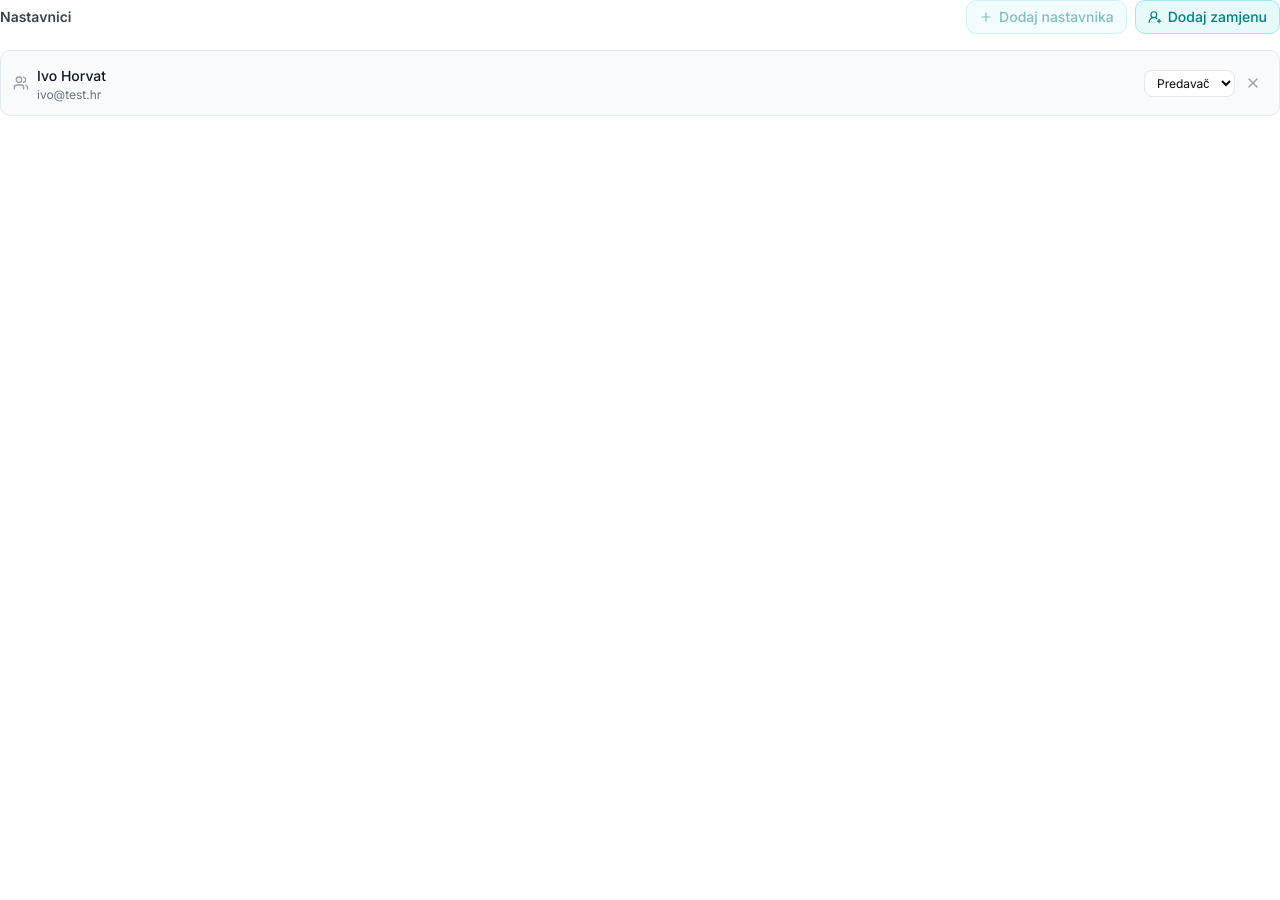
Test: GroupTeachersPanel — Dodaj zamjenu lifecycle › ignores a load that settles after the dialog was closed and reopened
Click the button "Dodaj zamjenu" at (1207, 17), box x1=1135 y1=0 x2=1279 y2=34
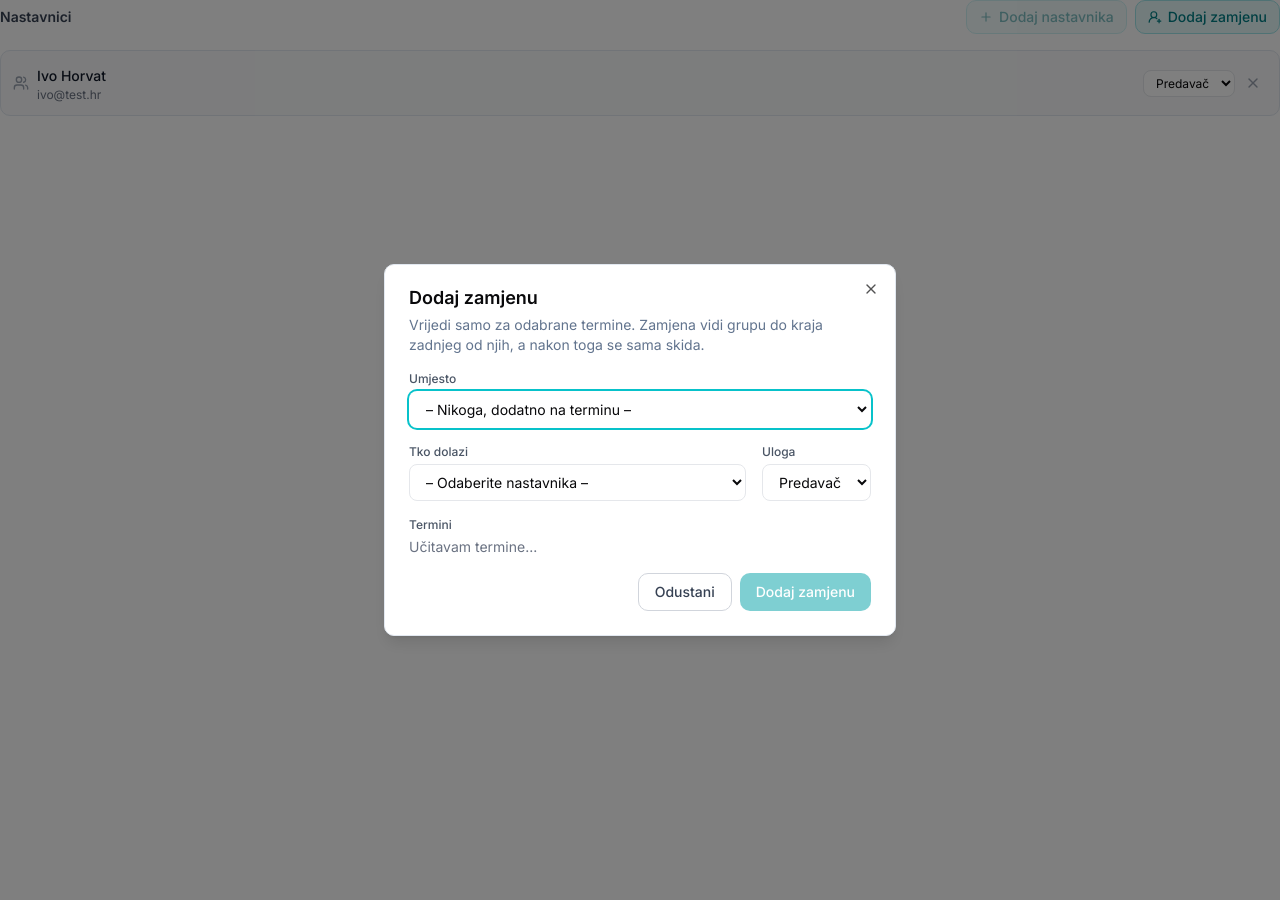
Click the button "Odustani" at (685, 592), box x1=638 y1=573 x2=732 y2=611
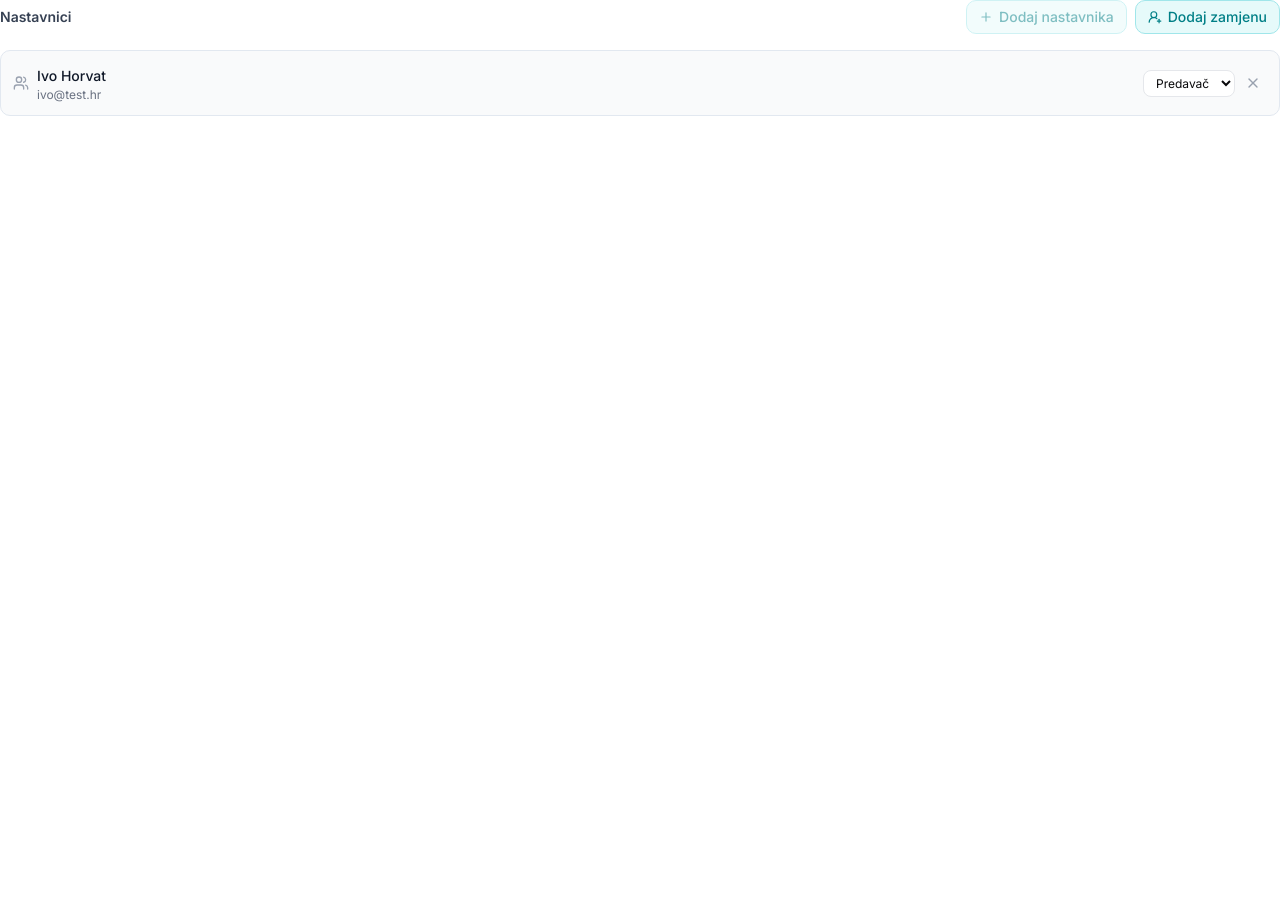
Now the dialog is gone
Click the button "Dodaj zamjenu" at (1207, 17), box x1=1135 y1=0 x2=1279 y2=34
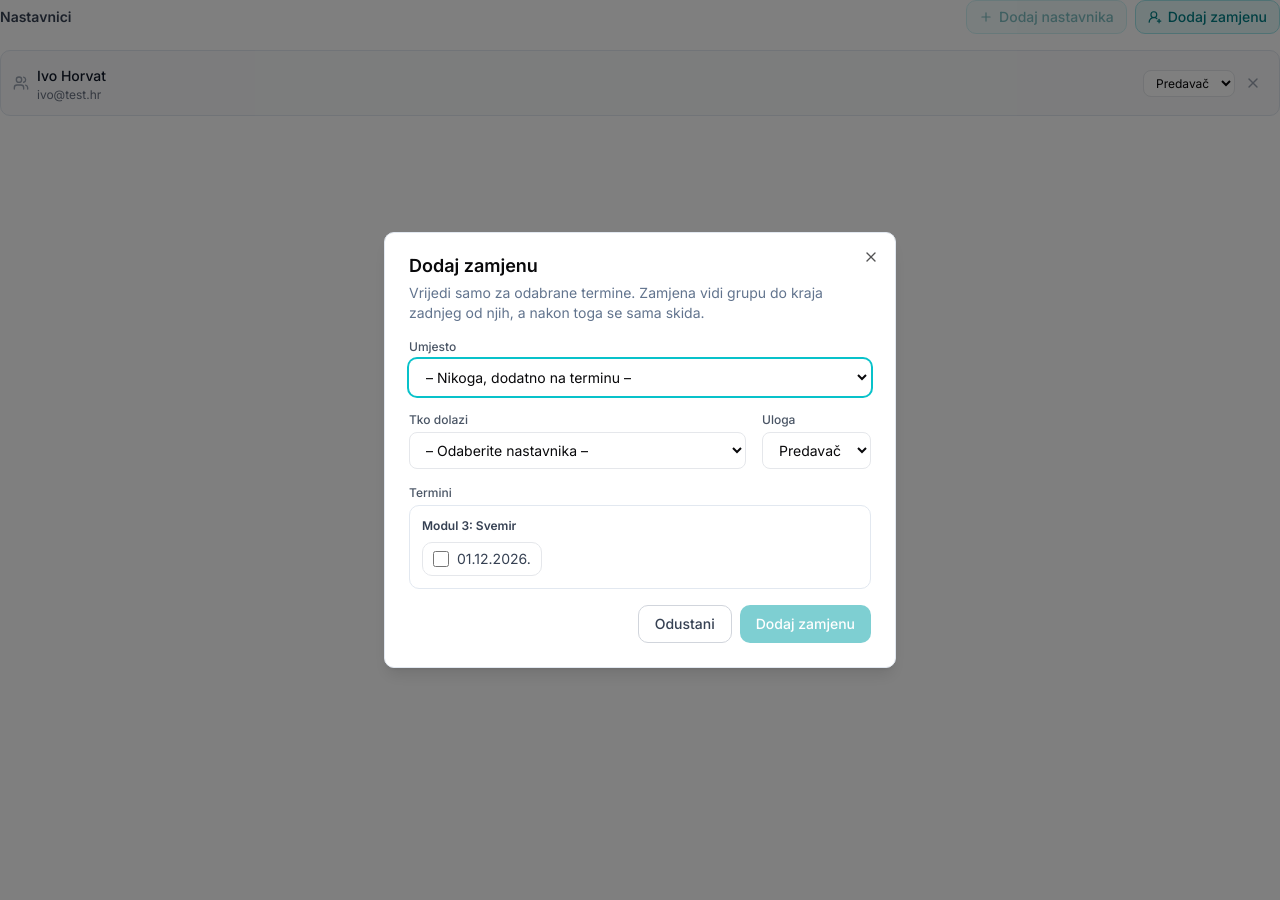
Now the text "Modul 3: Svemir" is shown, box x1=422 y1=518 x2=516 y2=534
Now the number of checkboxes is 1, box x1=433 y1=551 x2=449 y2=567
